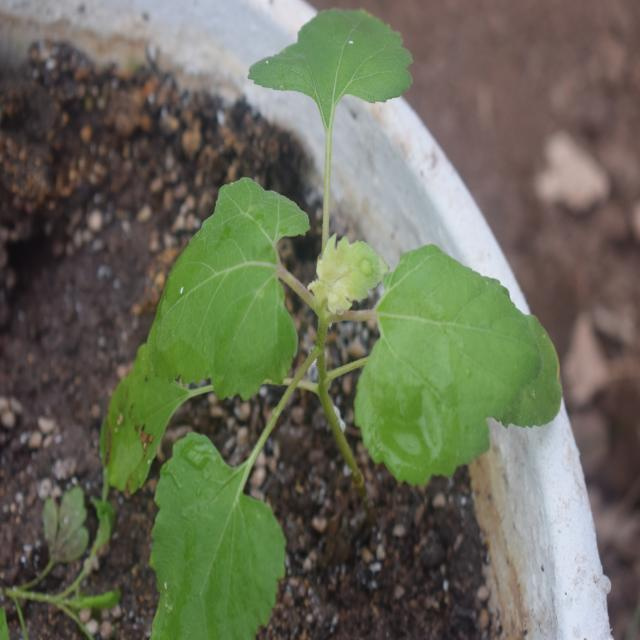cocklebur: (117, 14, 558, 568)
